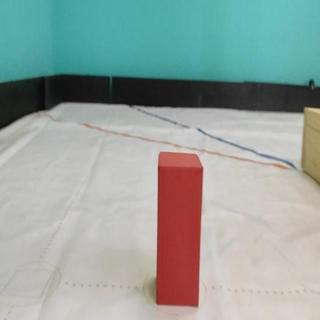redbox: (159, 153, 200, 308)
